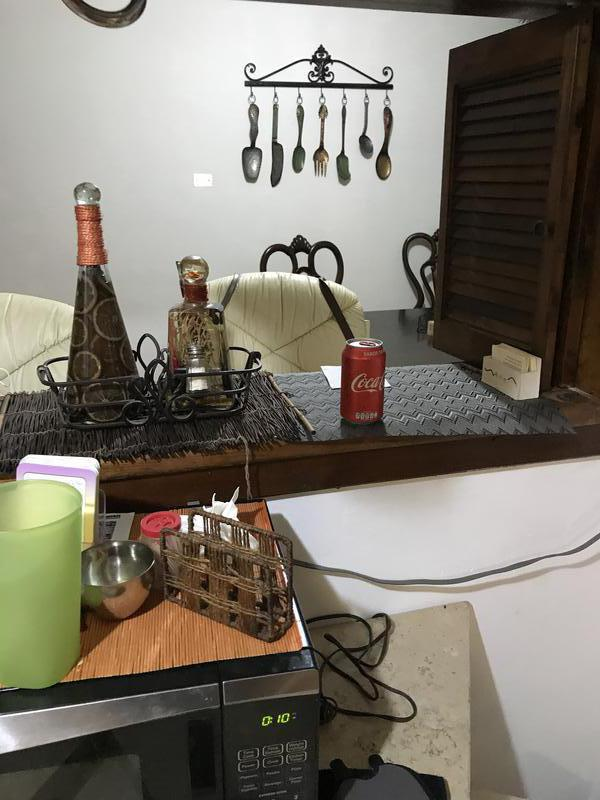coca_cola: (341, 338, 386, 427)
